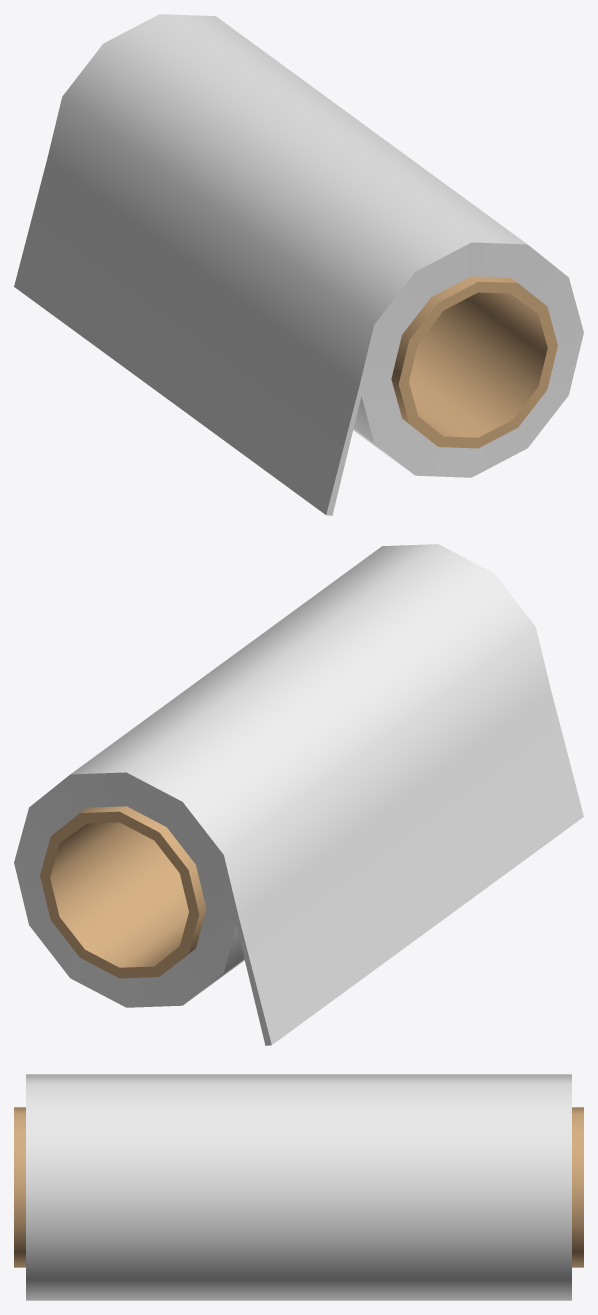
The model's file is Toilet Napkin03.fbx.
3 views of the same model, one above another, from view 1: azimuth 30°, elevation 25°; view 2: azimuth 150°, elevation 25°; view 3: azimuth 270°, elevation 25° (orthographic). The views are drawn at different scales.
Parts seen in each view (by area): view 1: Toilet Napkin03; view 2: Toilet Napkin03; view 3: Toilet Napkin03.
Part boxes in pixels (x1,y1,x2,y2): Toilet Napkin03: (14,14,583,515); Toilet Napkin03: (14,544,583,1045); Toilet Napkin03: (14,1074,583,1300).
Size of the model in its own units: 0.1216 by 0.2659 by 0.1079.
